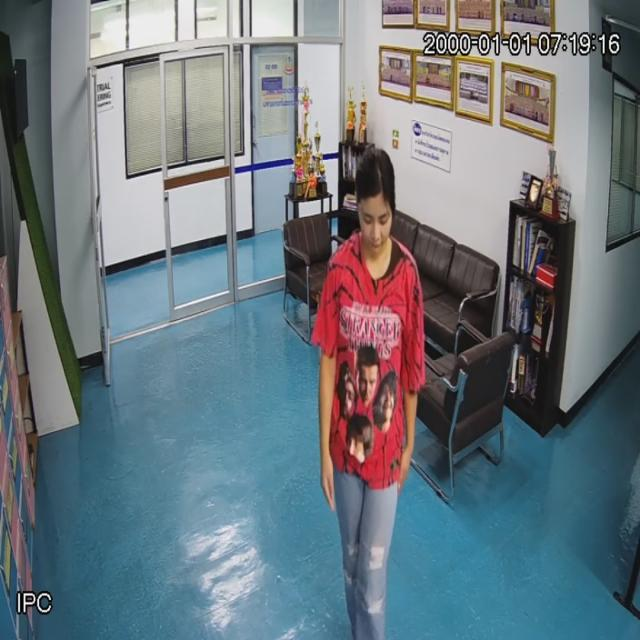normal: (314, 146, 427, 640)
